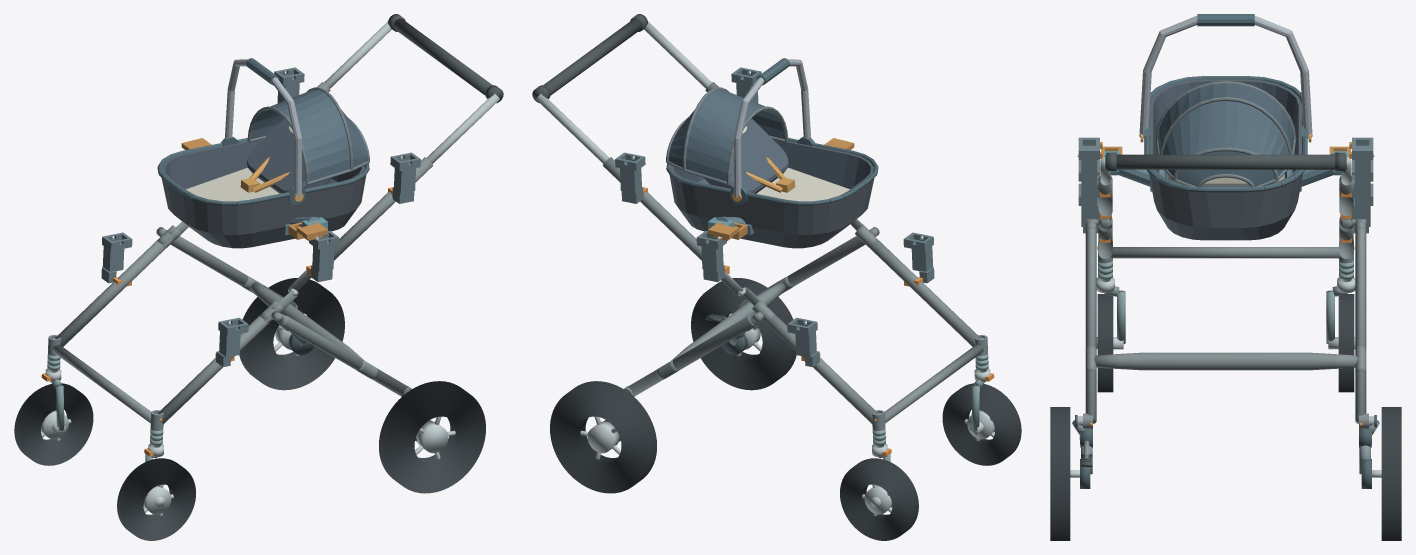
The model's file is S07_w650_state1_wheel_M.glb.
3 views of the same model, side by side, from view 1: azimuth 30°, elevation 25°; view 2: azimuth 150°, elevation 25°; view 3: azimuth 270°, elevation 25° (orthographic). The views are drawn at different scales.
Parts seen in each view (by area): view 1: S07_Cabin, RL_tire.008, RR_tire.008, FL_tire.008, FR_tire.008, main_lower_1.009, round_handle.008, V46_rear_leg_-1.009, main_lower_-1.009, front_fixed_round_tube.008, main_upper_-1.009, Universal_Cabin_Receiver_H_-1 (+9 smaller); view 2: S07_Cabin, RR_tire.008, RL_tire.008, FR_tire.008, FL_tire.008, main_lower_-1.009, round_handle.008, V46_rear_leg_1.009, main_lower_1.009, front_fixed_round_tube.008, main_upper_1.009, Universal_Cabin_Receiver_H_1 (+9 smaller); view 3: S07_Cabin, V46_rearbar.009, round_handle.008, RL_tire.008, RR_tire.008, front_fixed_round_tube.008, V46_rear_leg_-1.009, V46_rear_leg_1.009, FL_tire.008, FR_tire.008, Universal_Cabin_Receiver_H_1, Universal_Cabin_Receiver_H_-1 (+7 smaller).
Boxes of the visible parts, box(x1,y1,x2,y2) form: S07_Cabin: box(157, 58, 369, 248); RL_tire.008: box(379, 381, 485, 493); RR_tire.008: box(239, 278, 344, 390); FL_tire.008: box(117, 458, 195, 540); FR_tire.008: box(14, 383, 93, 465); main_lower_1.009: box(55, 237, 173, 346); round_handle.008: box(393, 18, 502, 101); V46_rear_leg_-1.009: box(280, 315, 407, 396); main_lower_-1.009: box(158, 315, 271, 424); front_fixed_round_tube.008: box(52, 344, 150, 422); main_upper_-1.009: box(311, 157, 433, 266); Universal_Cabin_Receiver_H_-1: box(390, 152, 420, 203); S07_Cabin: box(666, 58, 878, 248); RR_tire.008: box(550, 381, 656, 493); RL_tire.008: box(691, 278, 796, 390); FR_tire.008: box(840, 458, 918, 540); FL_tire.008: box(942, 383, 1021, 465); main_lower_-1.009: box(862, 237, 980, 346); round_handle.008: box(533, 18, 642, 101); V46_rear_leg_1.009: box(628, 315, 755, 396); main_lower_1.009: box(764, 315, 877, 424); front_fixed_round_tube.008: box(885, 344, 983, 422); main_upper_1.009: box(602, 157, 724, 266); Universal_Cabin_Receiver_H_1: box(615, 152, 645, 203); S07_Cabin: box(1139, 14, 1312, 240); V46_rearbar.009: box(1094, 352, 1357, 370); round_handle.008: box(1105, 154, 1346, 169); RL_tire.008: box(1050, 407, 1070, 540); RR_tire.008: box(1381, 407, 1401, 540); front_fixed_round_tube.008: box(1111, 247, 1340, 258); V46_rear_leg_-1.009: box(1085, 226, 1096, 423); V46_rear_leg_1.009: box(1355, 226, 1366, 423); FL_tire.008: box(1097, 294, 1113, 392); FR_tire.008: box(1338, 294, 1354, 392); Universal_Cabin_Receiver_H_1: box(1352, 137, 1373, 197); Universal_Cabin_Receiver_H_-1: box(1078, 137, 1099, 197).
Bounding box in the file's own units: 1.16 × 1.14 × 0.7871.
